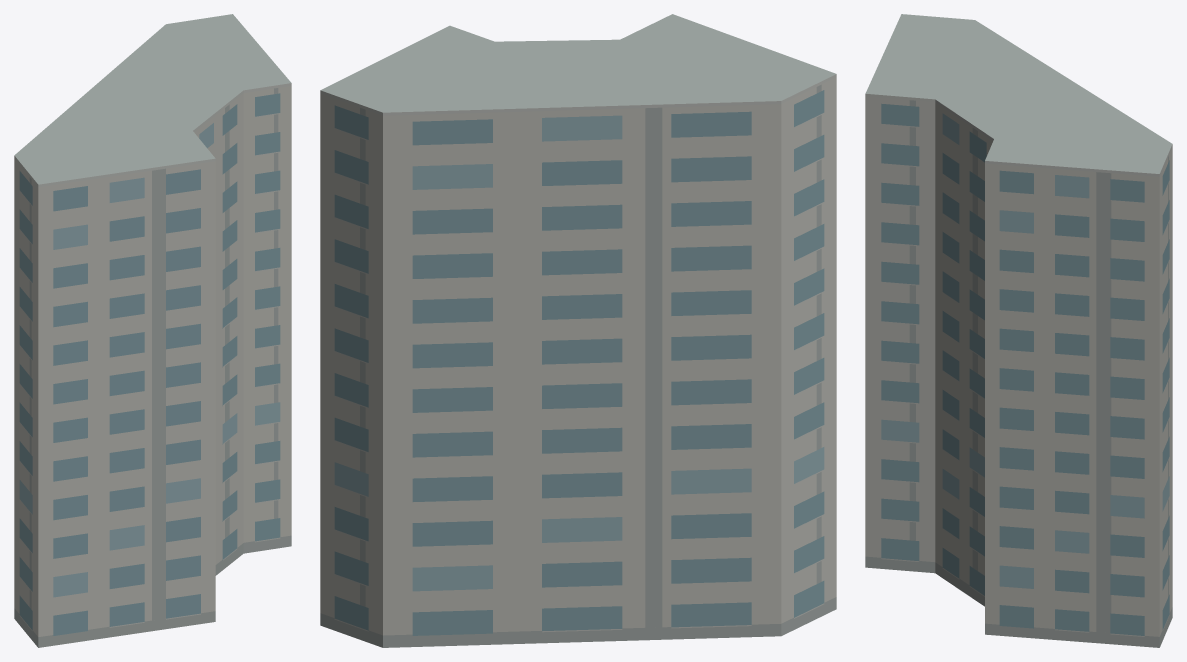
Rendered from residential-999d2731-3816-4763-a653-df130d2bc7df.glb.
3 views of the same model, side by side, from view 1: azimuth 30°, elevation 25°; view 2: azimuth 150°, elevation 25°; view 3: azimuth 270°, elevation 25° (orthographic). The views are drawn at different scales.
Parts seen in each view (by area): view 1: residential-999d2731-3816-4763-a653-df130d2bc7df.tmp; view 2: residential-999d2731-3816-4763-a653-df130d2bc7df.tmp; view 3: residential-999d2731-3816-4763-a653-df130d2bc7df.tmp.
Part boxes in pixels (box(x1,y1,x2,y2)): residential-999d2731-3816-4763-a653-df130d2bc7df.tmp: box(14, 14, 291, 647); residential-999d2731-3816-4763-a653-df130d2bc7df.tmp: box(320, 14, 836, 647); residential-999d2731-3816-4763-a653-df130d2bc7df.tmp: box(865, 14, 1172, 647).
Size of the model in its own units: 29.72 by 41 by 24.1.
